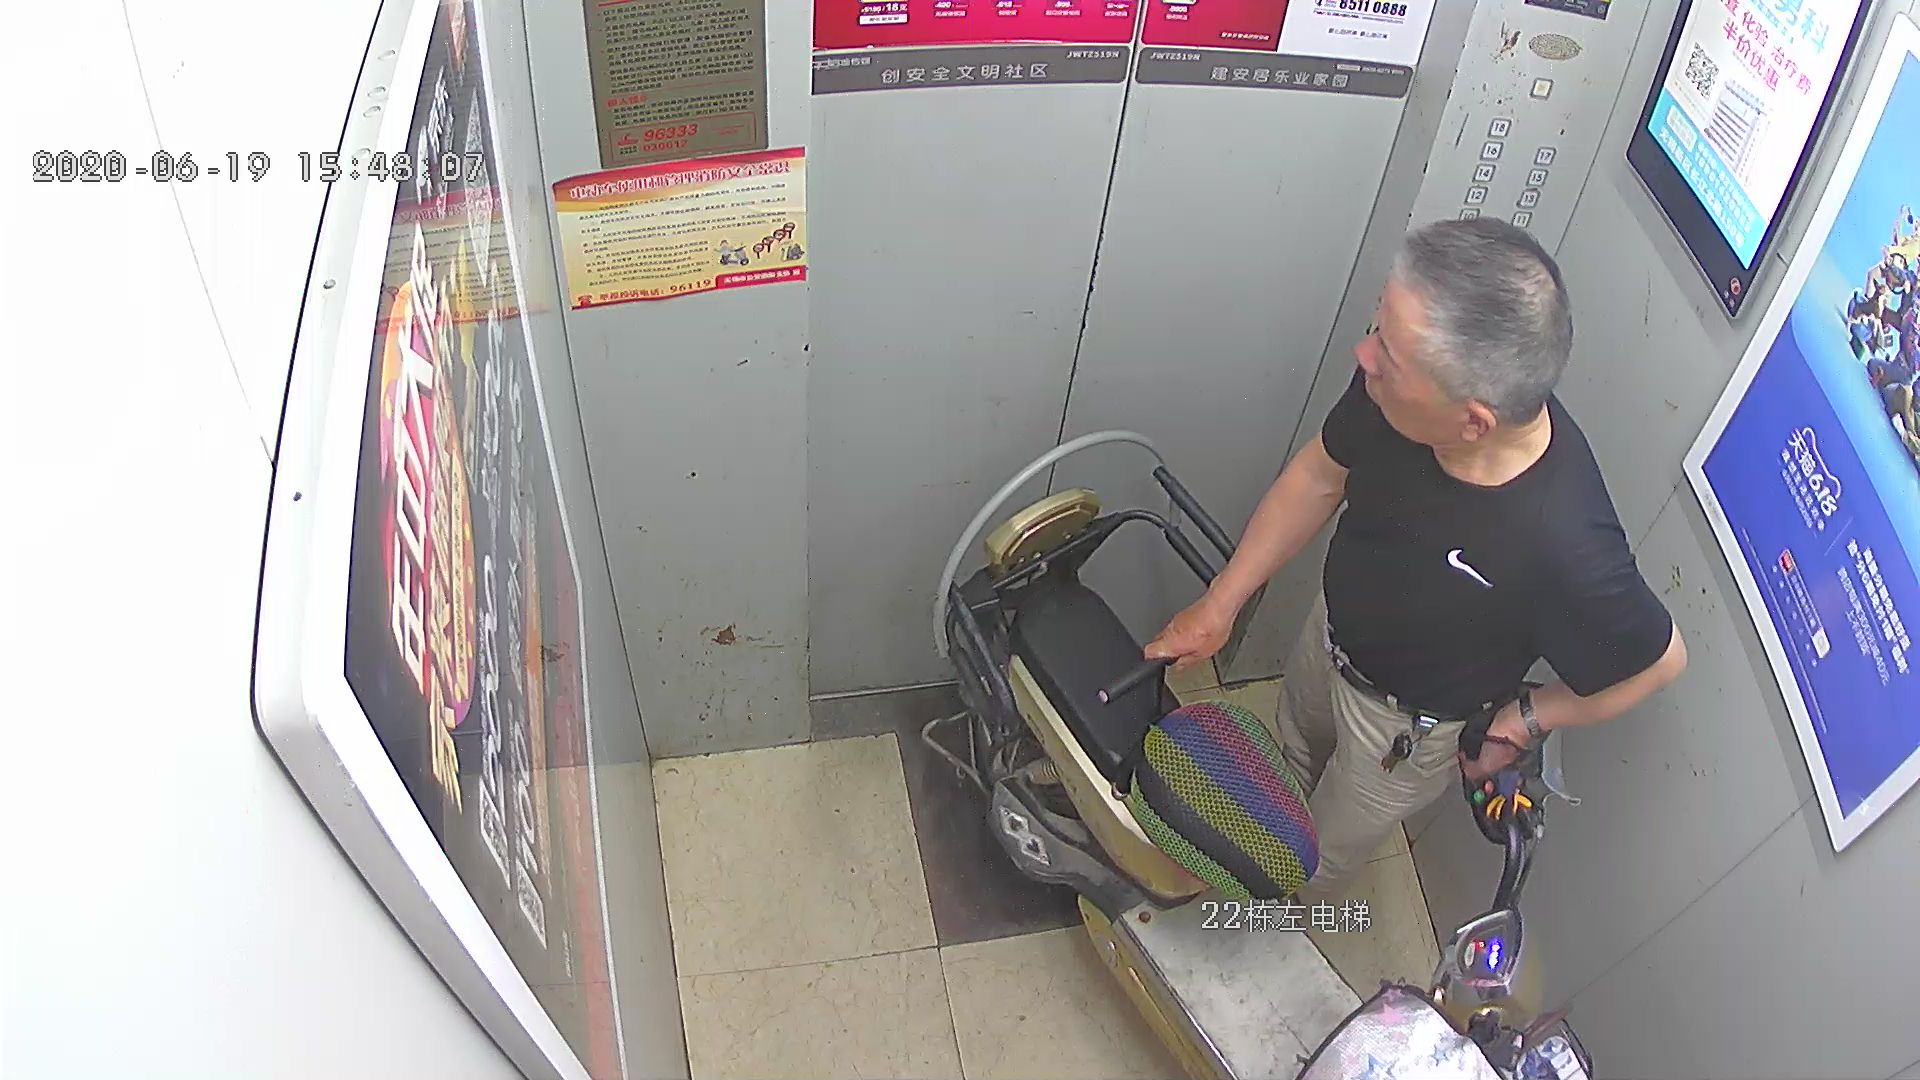Electric-bicycle: (934, 440, 1582, 1073)
